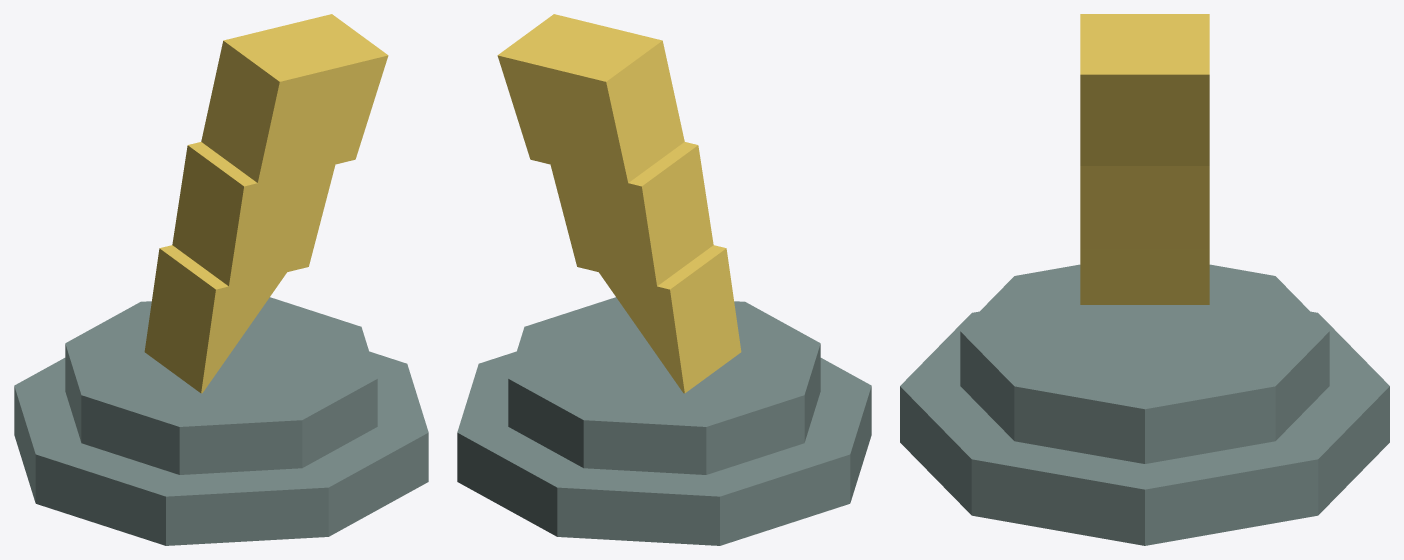
Rendered from molniya.fbx.
3 renders of one model, left to right at view 1: azimuth 30°, elevation 25°; view 2: azimuth 150°, elevation 25°; view 3: azimuth 270°, elevation 25°, orthographic. The views are drawn at different scales.
Visible parts, largest first — view 1: Cylinder.023; view 2: Cylinder.023; view 3: Cylinder.023.
Boxes of the visible parts, x1,y1,x2,y2 form: Cylinder.023: [14, 14, 428, 545]; Cylinder.023: [457, 14, 871, 545]; Cylinder.023: [900, 14, 1389, 545].
Bounding box in the file's own units: 37.52 × 37.62 × 37.52.
